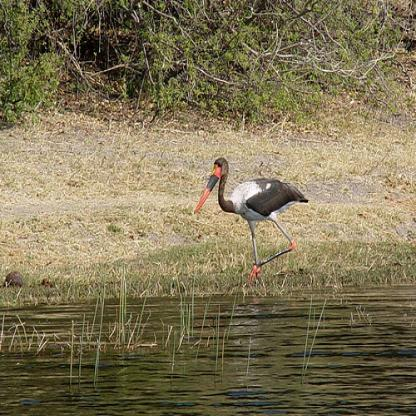bird: (192, 157, 309, 285)
